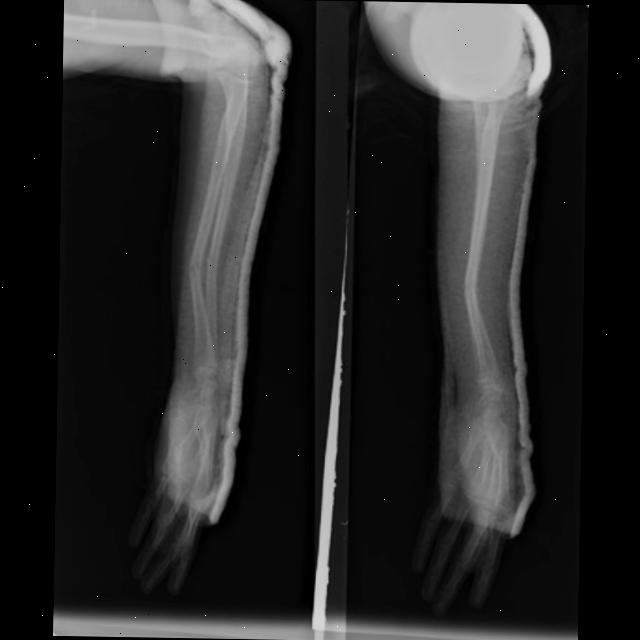fractured: (186, 251, 204, 281), (458, 275, 479, 300)
